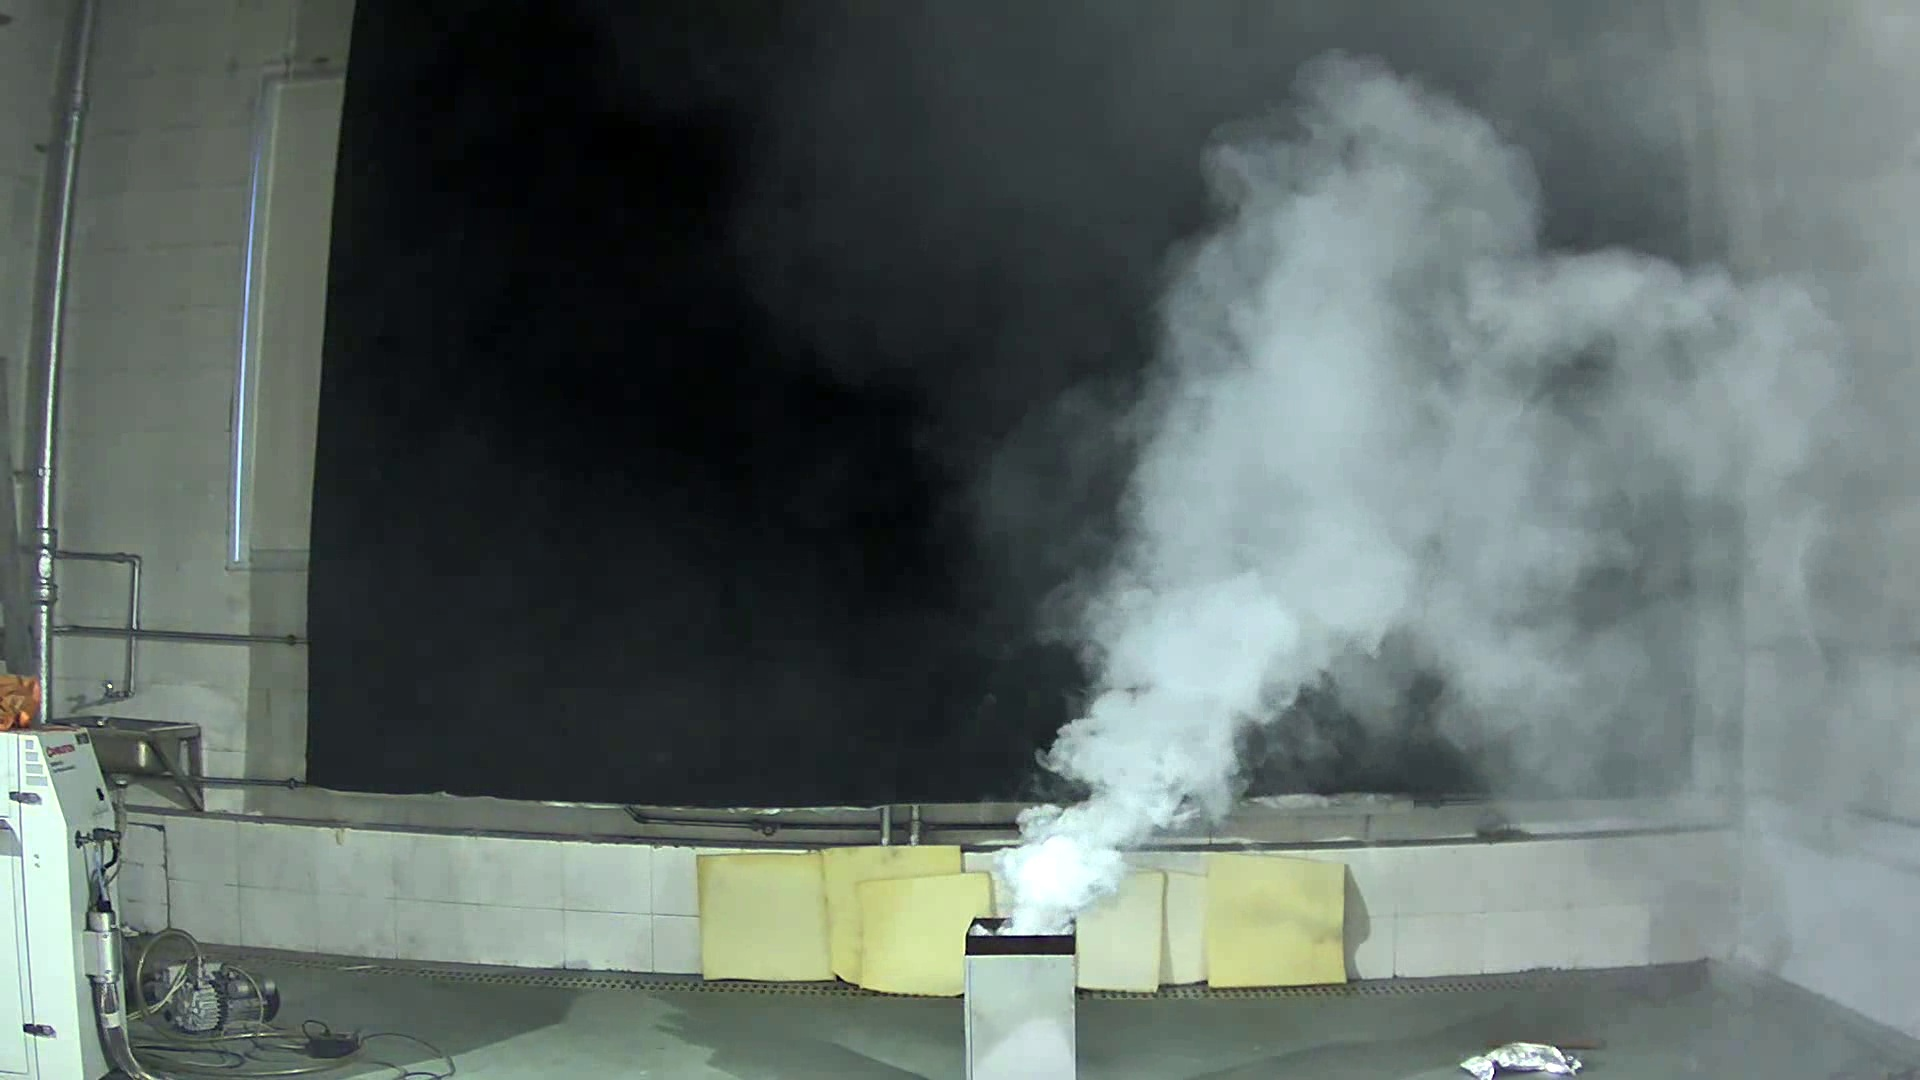smoke: (973, 49, 1865, 957)
